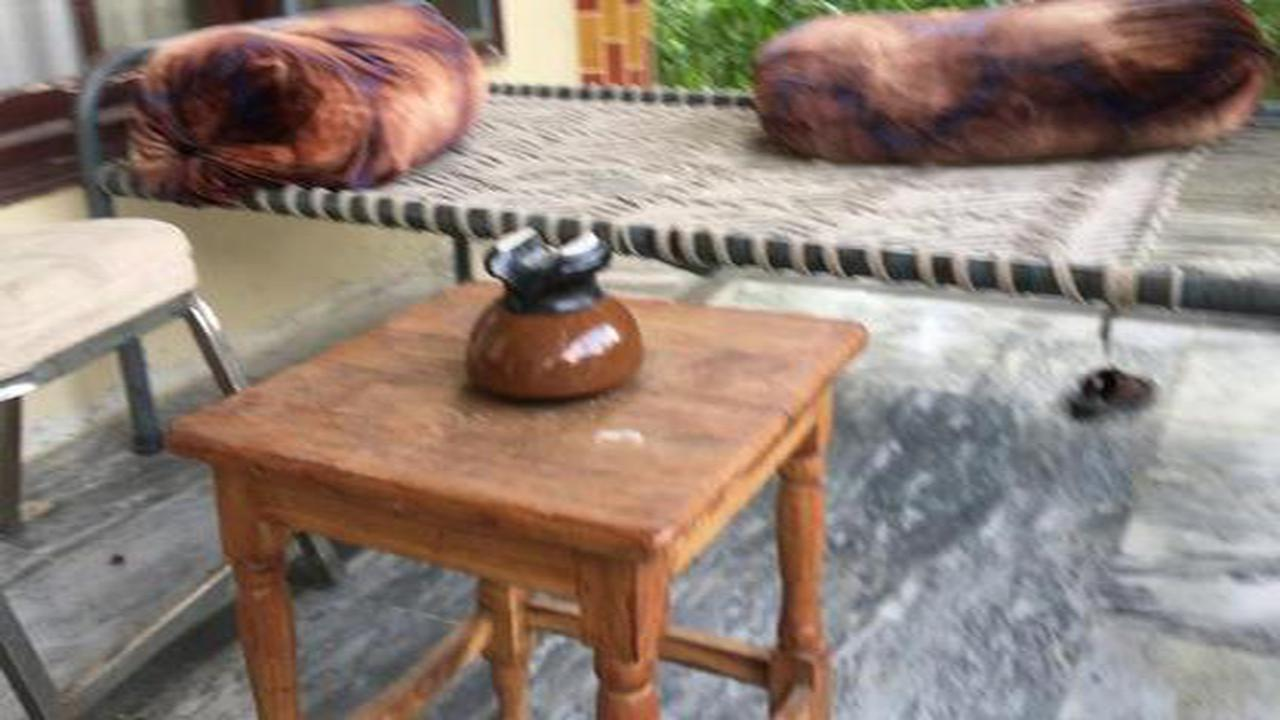insulator_pin: (444, 211, 656, 419)
